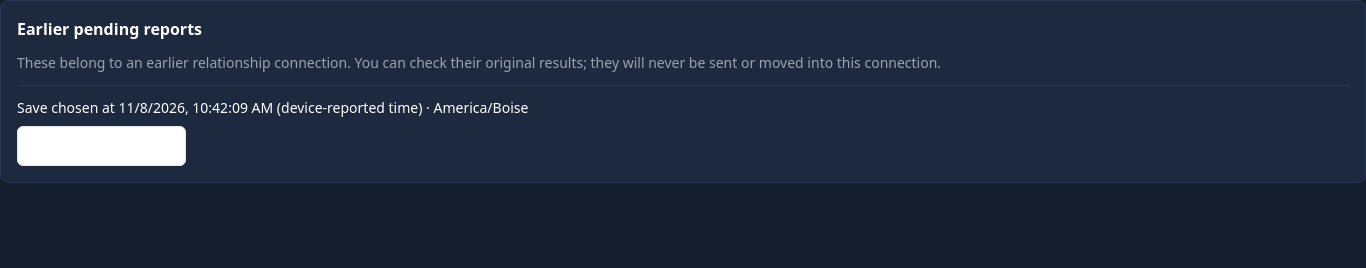
saved report recovery and UI › scopes earlier drafts to this account/backend, checks original receipts only and preserves not-found reports
The width and height of the screenshot is (1366, 268).
Later steps or results of the test are not shown.
Click the button "Check original result".
click(101, 146)  # box [17,126,186,166]
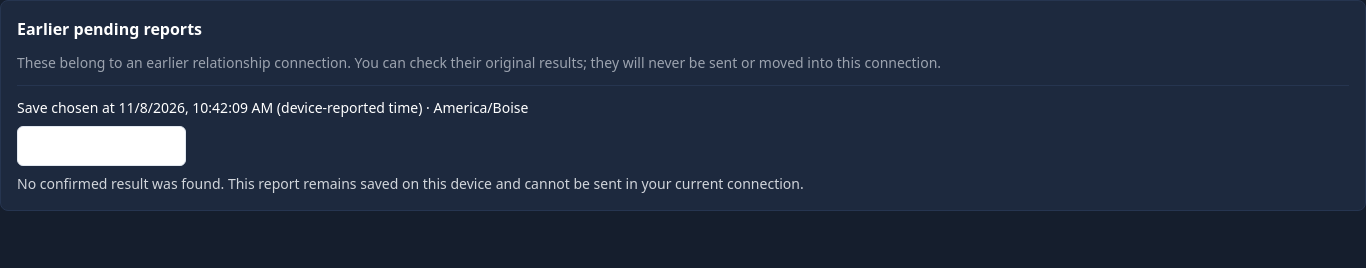
Expected: the text "No confirmed result was found" is shown, [17,174,804,193]
Click the button "Check original result".
click(101, 146)  # box [17,126,186,166]
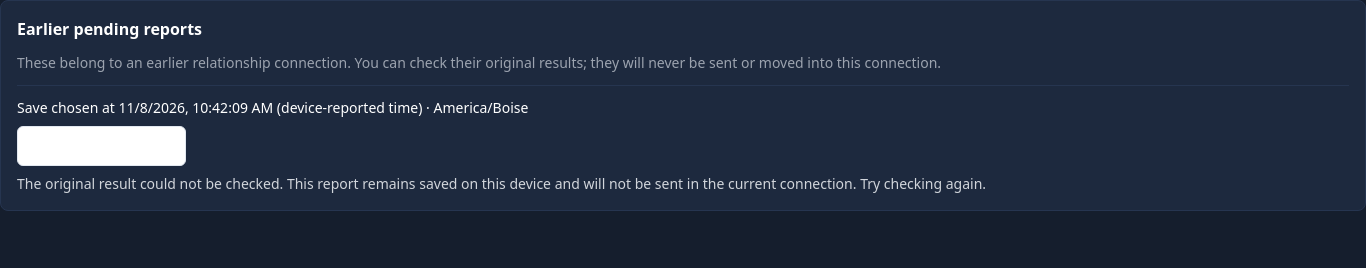
Expected: the text "original result could not be checked" is shown, [17,174,986,193]
Click the button "Check original result".
click(101, 146)  # box [17,126,186,166]
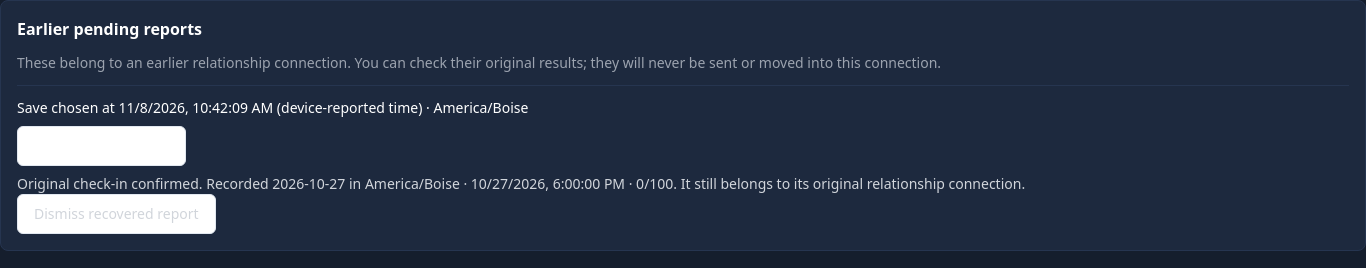
Expected: the text "Original check-in confirmed" is shown, [17,174,206,193]
